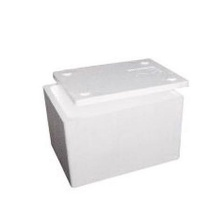foam_box: (37, 52, 195, 191)
